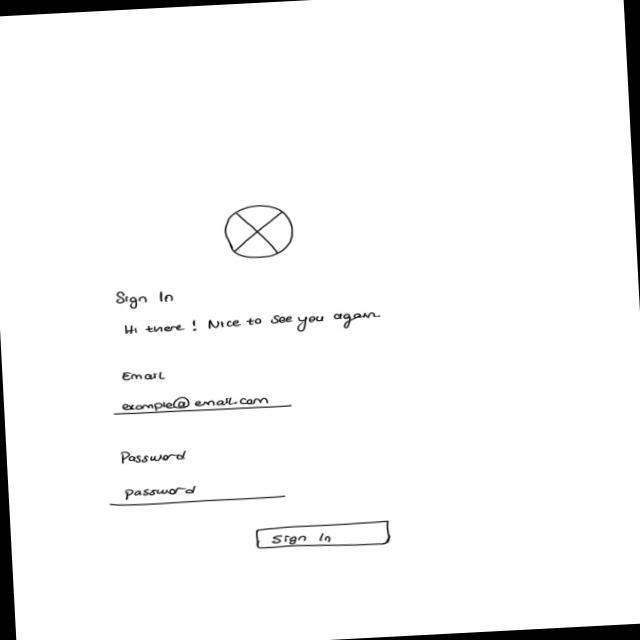button: (255, 519, 394, 552)
image: (124, 309, 384, 343), (223, 204, 299, 262), (115, 290, 178, 312), (121, 448, 191, 467), (121, 370, 169, 384)
input: (110, 481, 289, 510), (113, 391, 295, 419)
